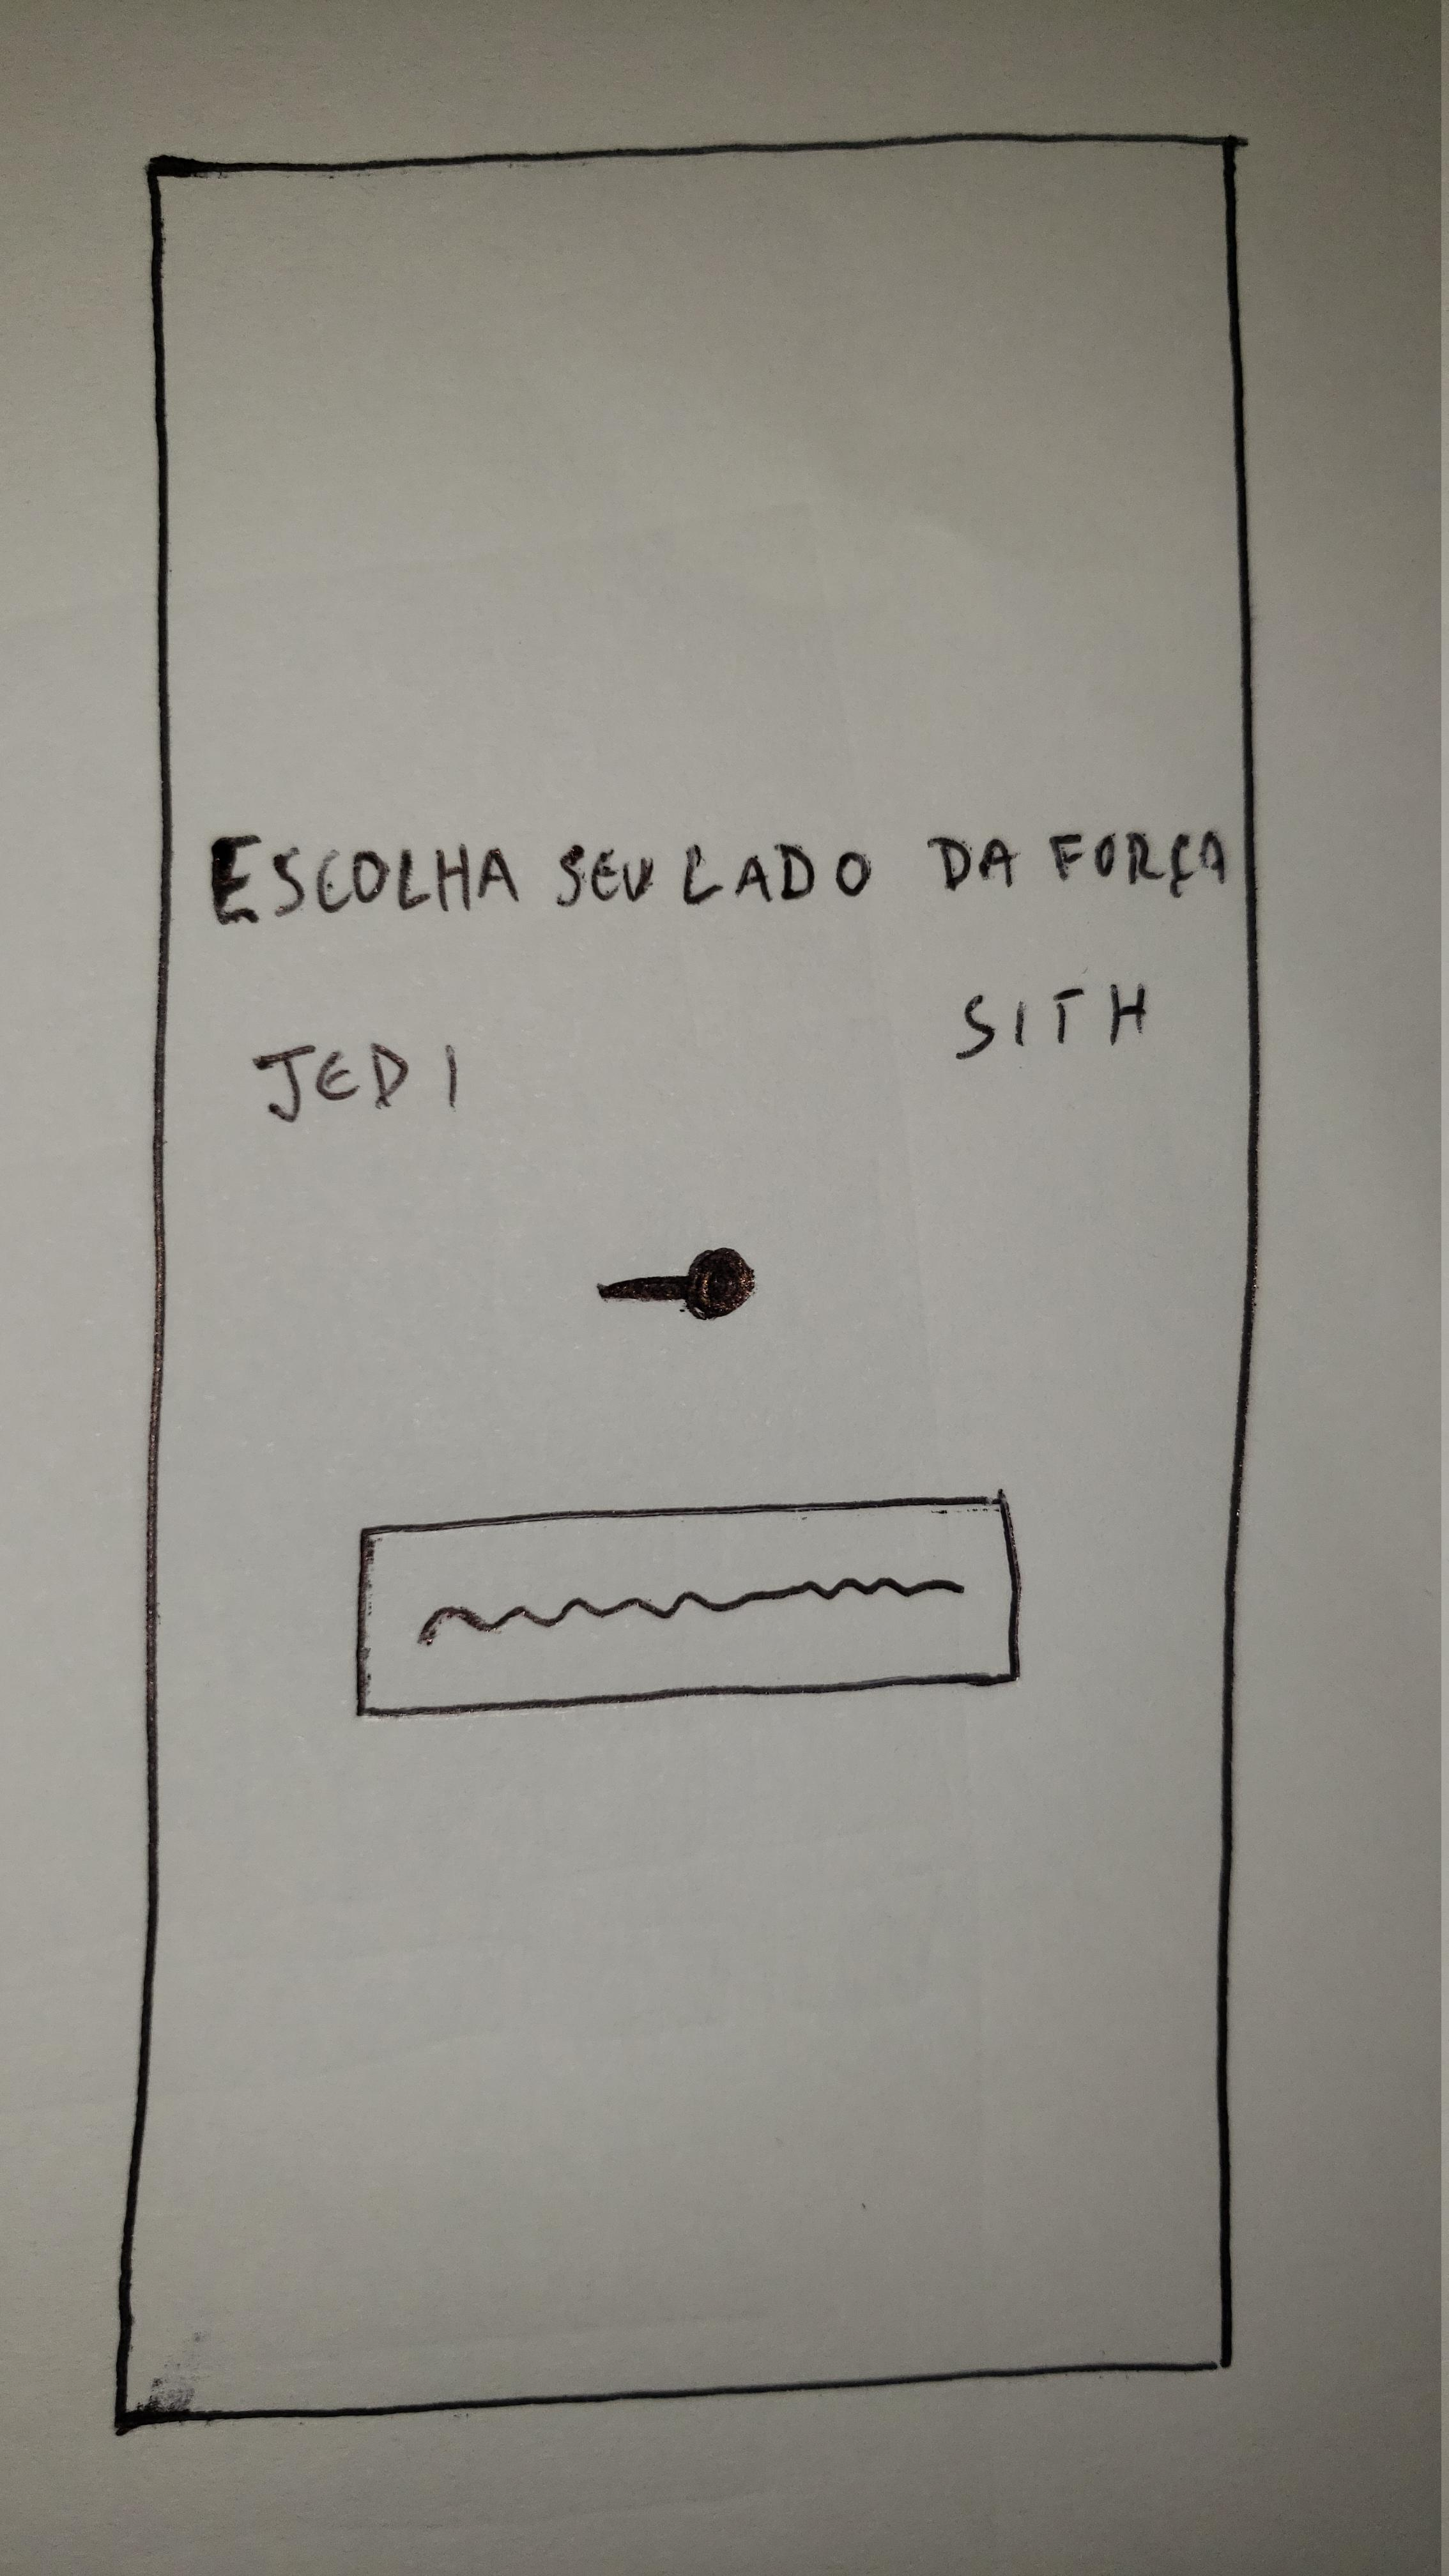Button: (352, 1491, 1023, 1721)
Label: (205, 830, 1230, 924), (255, 1040, 460, 1127), (955, 984, 1150, 1060)
Screen: (113, 129, 1261, 2434)
Switch: (594, 1244, 755, 1325)
